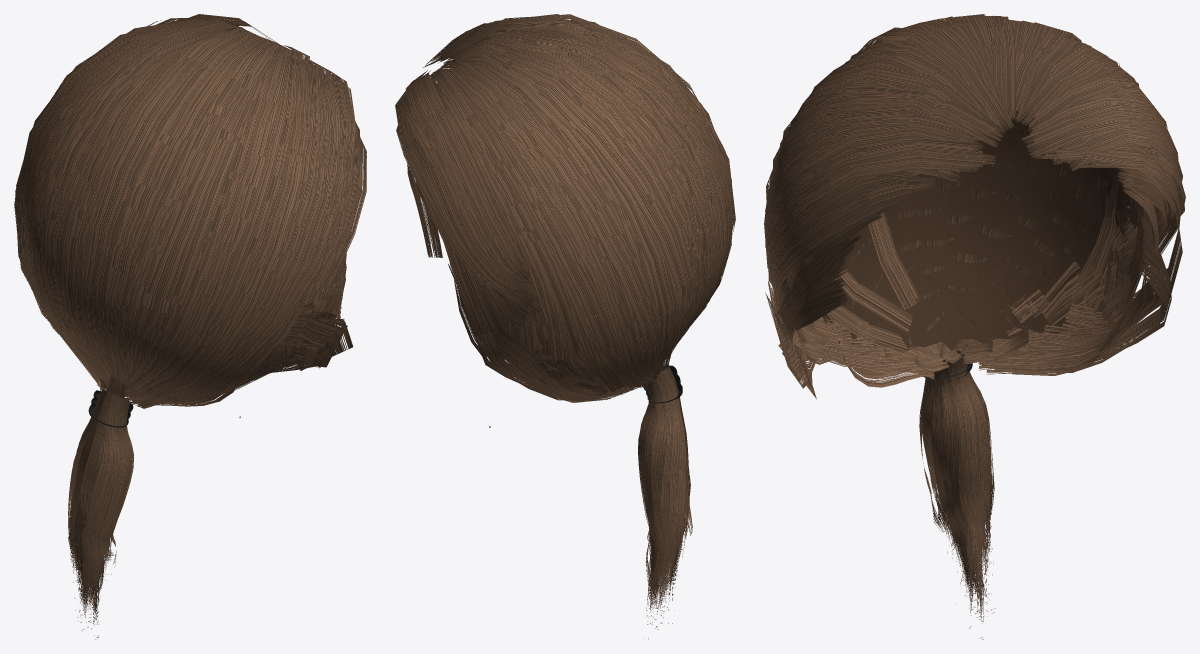
Rendered from hair-male-ponytail.glb.
3 views of the same model, side by side, from view 1: azimuth 30°, elevation 25°; view 2: azimuth 150°, elevation 25°; view 3: azimuth 270°, elevation 25° (orthographic). The views are drawn at different scales.
Visible parts, largest first — view 1: Hair_ponytail_cards, Hair_ponytail_tail; view 2: Hair_ponytail_cards, Hair_ponytail_tail; view 3: Hair_ponytail_cards, Hair_ponytail_cap, Hair_ponytail_tail.
Part boxes in pixels (box(x1,y1,x2,y2)): Hair_ponytail_cards: box(14, 14, 366, 408); Hair_ponytail_tail: box(68, 388, 133, 639); Hair_ponytail_cards: box(395, 14, 735, 402); Hair_ponytail_tail: box(638, 365, 692, 638); Hair_ponytail_cards: box(764, 14, 1185, 399); Hair_ponytail_cap: box(822, 108, 1138, 352); Hair_ponytail_tail: box(919, 350, 995, 639).
Size of the model in its own units: 0.1925 by 0.369 by 0.2117.
Materials: 5 (3 with a texture image).
